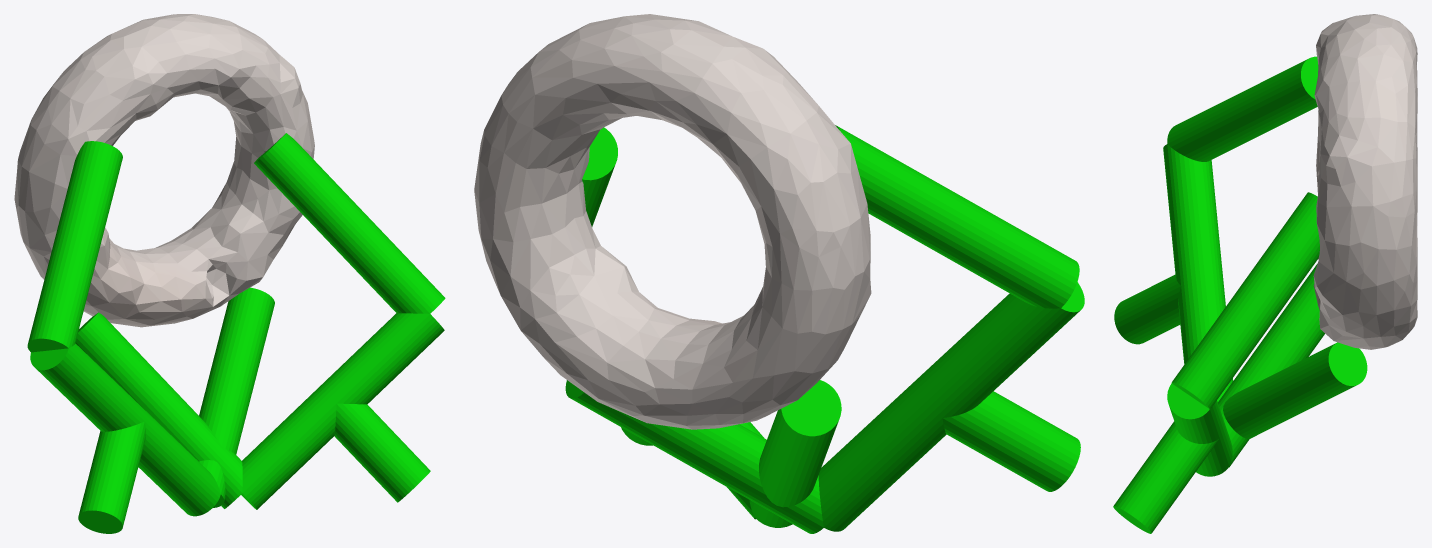
File: round_000_trial_001.obj
3 views of the same model, side by side, from view 1: azimuth 30°, elevation 25°; view 2: azimuth 150°, elevation 25°; view 3: azimuth 270°, elevation 25° (orthographic). The views are drawn at different scales.
Visible parts, largest first — view 1: geometry_0, geometry_2, geometry_1; view 2: geometry_0, geometry_1, geometry_2; view 3: geometry_0, geometry_1, geometry_2.
Part boxes in pixels (x1,y1,x2,y2): geometry_0: (14, 14, 314, 327); geometry_2: (75, 133, 445, 509); geometry_1: (27, 141, 274, 533); geometry_0: (474, 14, 871, 429); geometry_1: (565, 125, 1084, 533); geometry_2: (582, 127, 841, 527); geometry_0: (1313, 14, 1417, 349); geometry_1: (1114, 56, 1367, 438); geometry_2: (1113, 192, 1324, 533).
Size of the model in its own units: 0.1042 by 0.1034 by 0.0645.
